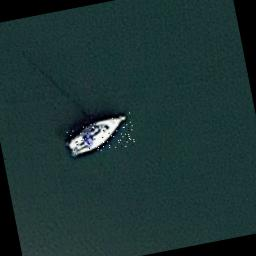boat: (62, 112, 136, 158)
